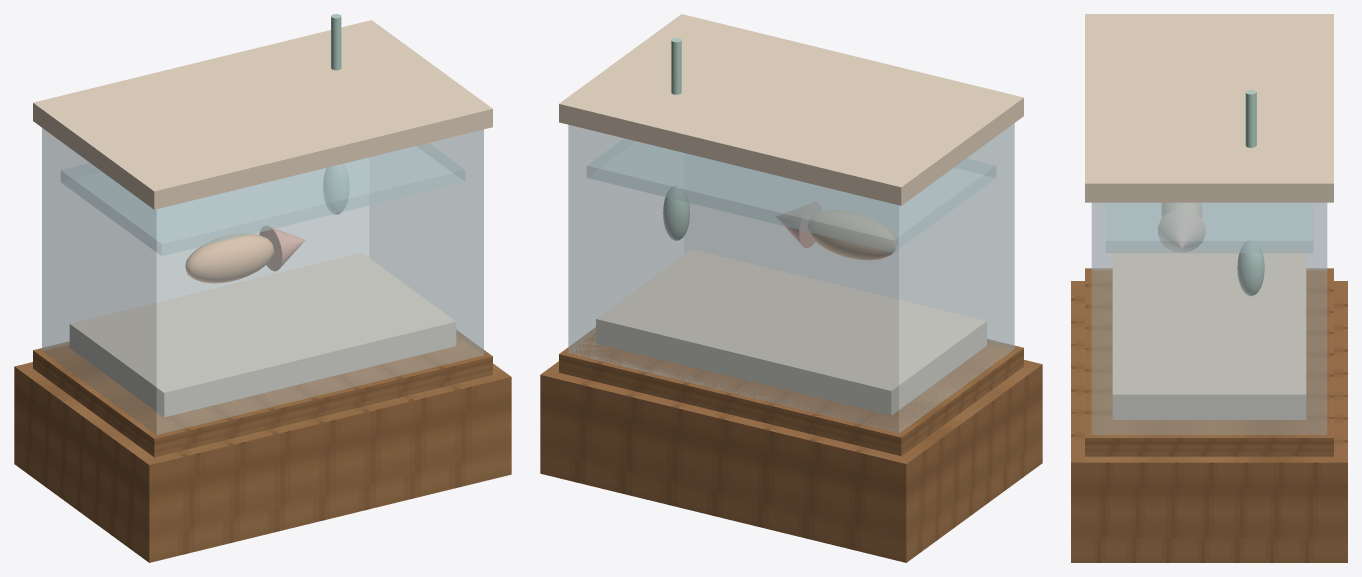
The model's file is tank_corner.glb.
3 views of the same model, side by side, from view 1: azimuth 30°, elevation 25°; view 2: azimuth 150°, elevation 25°; view 3: azimuth 270°, elevation 25° (orthographic). The views are drawn at different scales.
Visible parts, largest first — view 1: tank_corner; view 2: tank_corner; view 3: tank_corner.
Boxes of the visible parts, x1,y1,x2,y2 form: tank_corner: (14, 14, 511, 562); tank_corner: (540, 14, 1042, 562); tank_corner: (1071, 14, 1347, 562).
Bounding box in the file's own units: 0.62 × 0.68 × 0.4.
8 materials, 1 textured.
